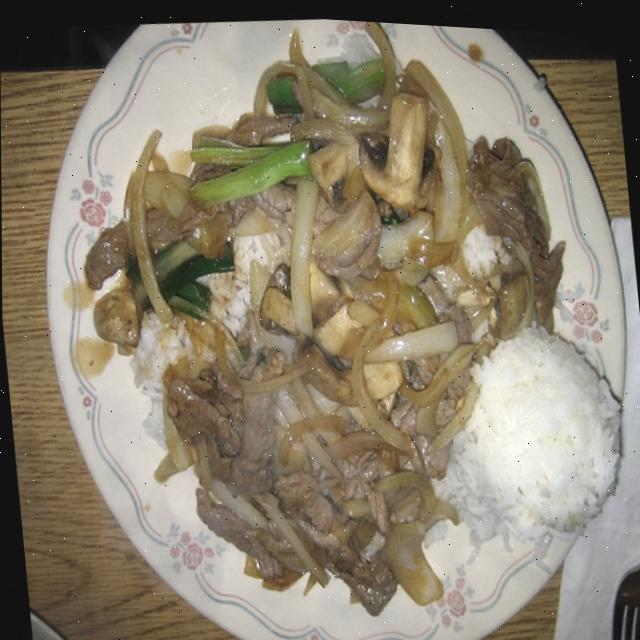牛肉菜式: (33, 7, 639, 640)
